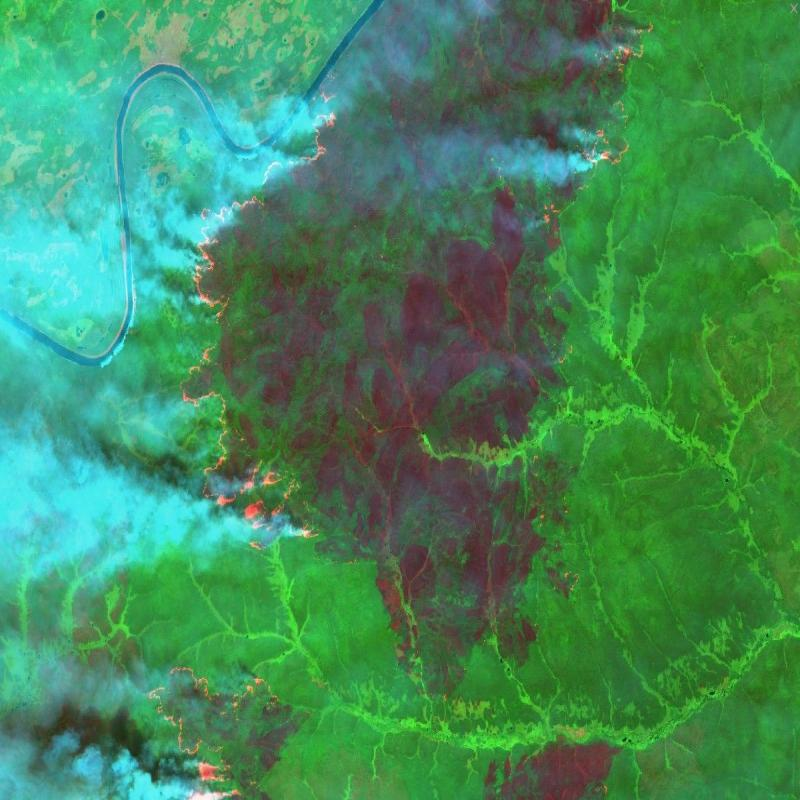fire: (172, 83, 343, 564), (534, 0, 656, 236), (140, 642, 284, 800), (513, 436, 586, 617)
